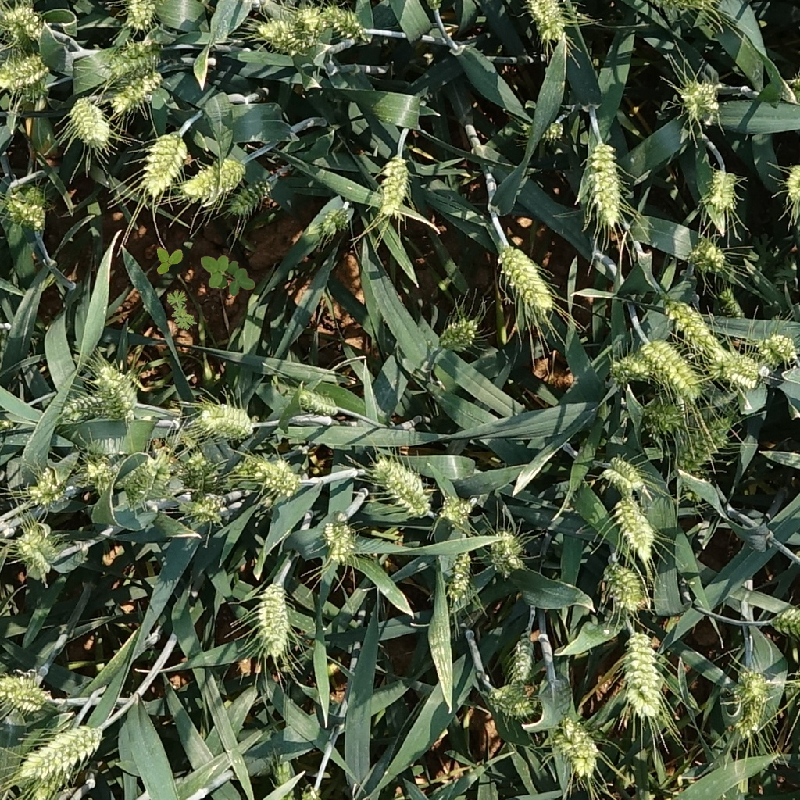spikelet: (16, 722, 103, 785), (619, 627, 668, 720), (495, 242, 557, 314), (640, 337, 704, 399), (582, 138, 626, 228), (370, 455, 433, 517), (673, 414, 732, 475), (660, 295, 721, 354), (139, 129, 189, 197), (179, 154, 246, 204), (254, 580, 294, 660), (611, 493, 657, 561), (554, 716, 600, 777), (93, 361, 140, 418), (194, 400, 258, 441), (13, 522, 59, 579), (373, 152, 412, 219), (109, 67, 164, 114), (67, 93, 112, 148), (710, 346, 765, 390), (602, 560, 647, 613), (120, 452, 169, 500), (250, 454, 303, 498), (2, 182, 48, 231), (1, 670, 53, 713), (256, 17, 314, 55), (678, 76, 723, 124), (227, 173, 276, 217), (105, 39, 161, 76), (24, 466, 70, 510), (1, 52, 50, 93), (441, 549, 476, 605), (486, 681, 536, 720), (732, 664, 775, 709), (1, 2, 44, 45), (57, 390, 109, 425), (179, 490, 229, 526), (525, 1, 568, 42), (487, 529, 525, 575), (641, 396, 688, 433), (601, 454, 646, 492), (607, 350, 654, 386), (179, 449, 221, 489), (437, 315, 480, 353), (322, 517, 357, 563), (324, 3, 365, 42), (506, 632, 536, 685), (81, 453, 121, 492), (705, 166, 738, 213), (687, 237, 727, 274), (760, 330, 799, 366), (525, 114, 568, 146), (296, 387, 340, 416), (319, 202, 354, 237), (439, 493, 474, 526), (296, 2, 329, 36), (717, 284, 746, 320), (124, 1, 157, 31), (771, 604, 799, 637), (641, 1, 714, 10), (785, 160, 799, 206)
weed: (158, 285, 207, 333), (201, 255, 255, 296), (147, 237, 188, 276)
